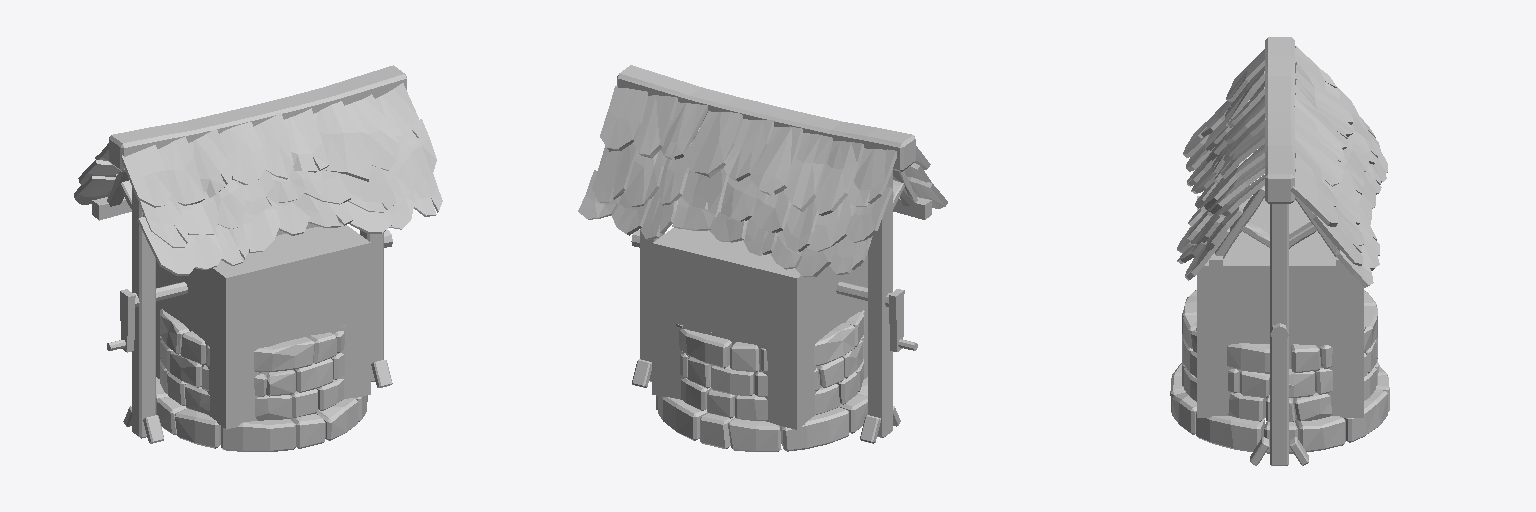
The model's file is Well.obj.
3 views of the same model, side by side, from view 1: azimuth 30°, elevation 25°; view 2: azimuth 150°, elevation 25°; view 3: azimuth 270°, elevation 25° (orthographic).
Visible parts, largest first — view 1: Plane.000_Plane.057, Cube; view 2: Plane.000_Plane.057, Cube; view 3: Plane.000_Plane.057, Cube.
Part boxes in pixels (x1,y1,x2,y2): Plane.000_Plane.057: (74,65,442,451); Cube: (156,223,370,429); Plane.000_Plane.057: (578,65,947,451); Cube: (652,228,867,429); Plane.000_Plane.057: (1170,37,1389,465); Cube: (1197,196,1363,417).
Size of the model in its own units: 4.08 by 4 by 2.62.